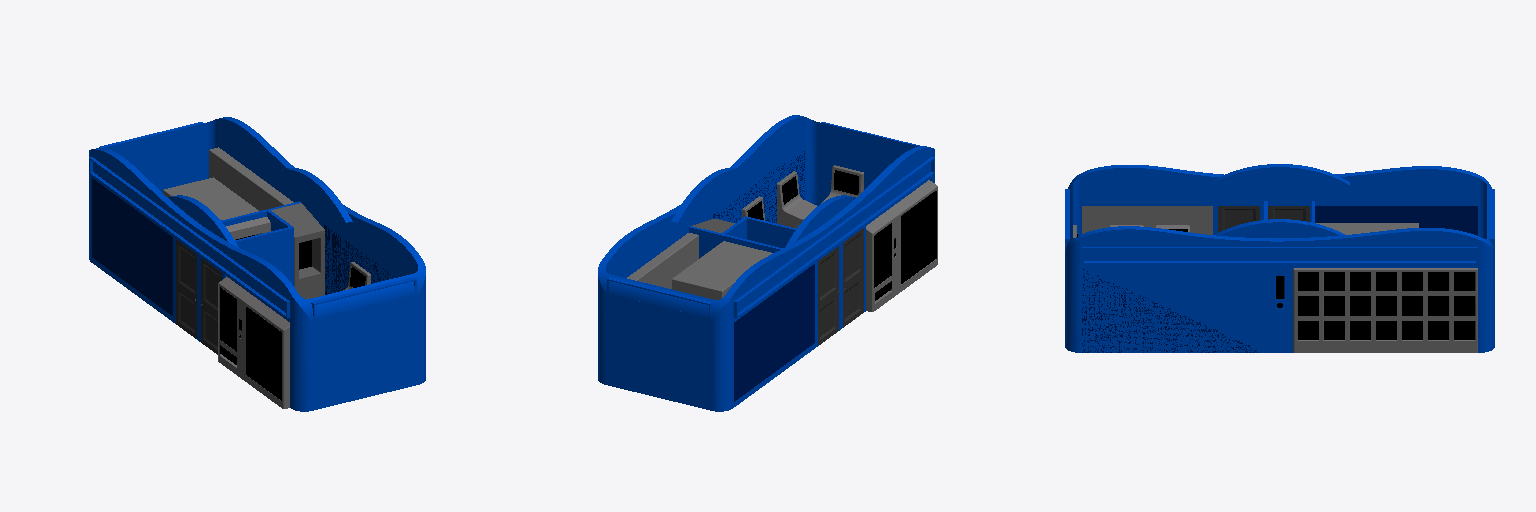
3 renders of one model, left to right at view 1: azimuth 30°, elevation 25°; view 2: azimuth 150°, elevation 25°; view 3: azimuth 270°, elevation 25°, orthographic.
Visible parts, largest first — view 1: yunting; view 2: yunting; view 3: yunting.
Part boxes in pixels (x1,y1,x2,y2): yunting: (89, 117, 425, 411); yunting: (598, 115, 937, 411); yunting: (1065, 164, 1494, 352).
Size of the model in its own units: 154 by 131 by 400.